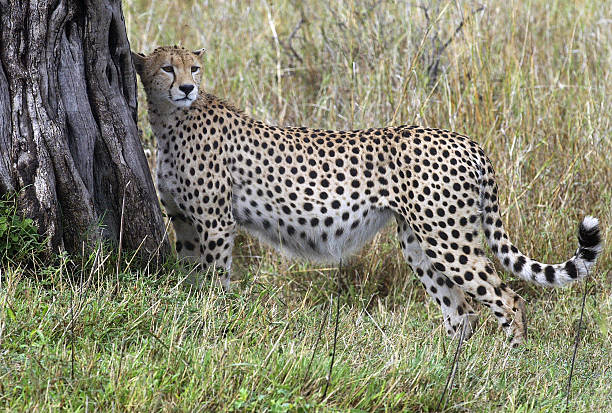cheetah: (130, 42, 217, 114)
